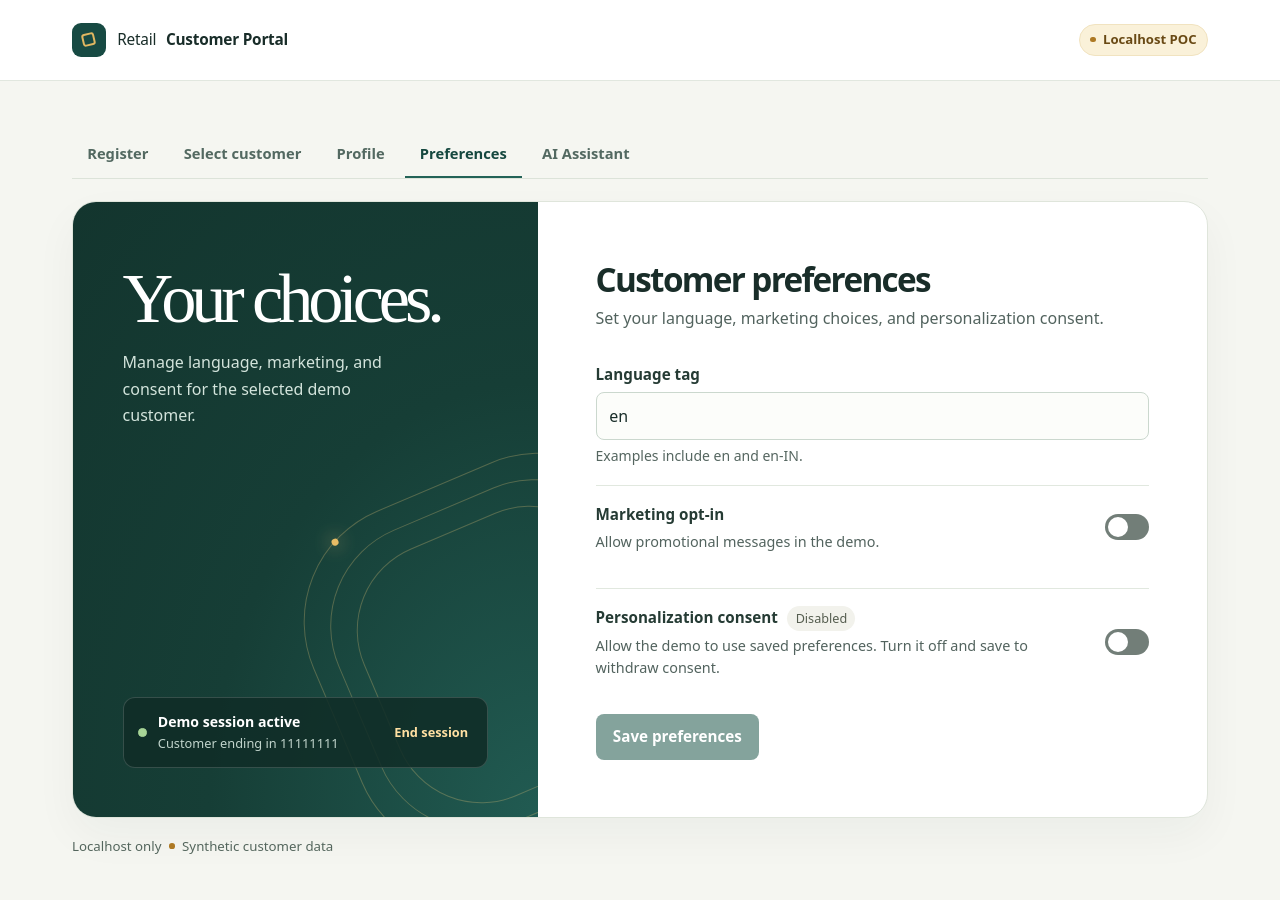
Test: shows default consent off and can explicitly grant and withdraw it
Expected: the switch labelled "Personalization consent" is not checked, [1105,629,1149,655]
Expected: the text with test id "consent-state" reads "Disabled", [796,609,847,627]
Step 1. Type "en-IN" into the field labelled "Language tag" → (872,416), box [596,392,1149,440]
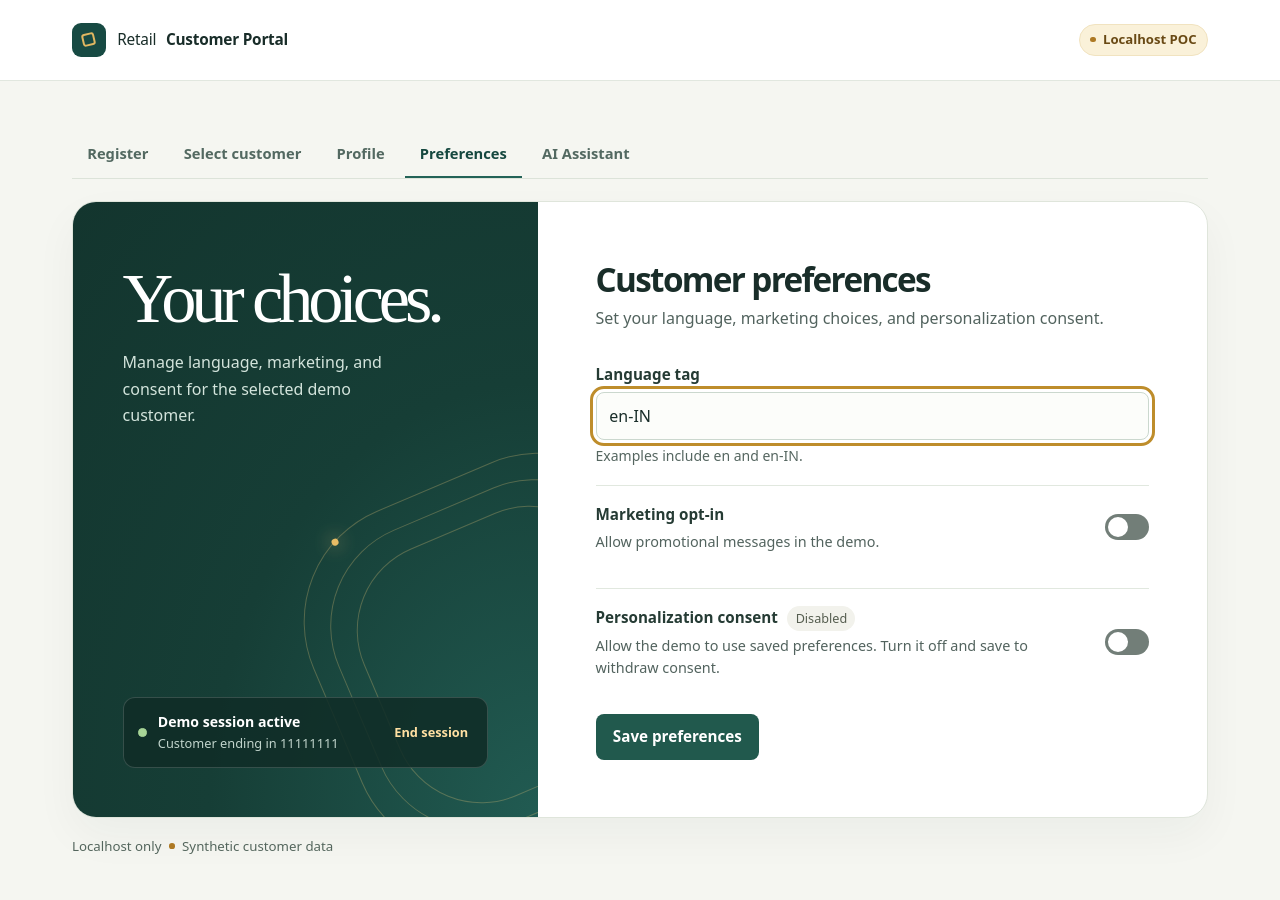
Step 2. Click the switch labelled "Marketing opt-in" → (1127,527), box [1105,514,1149,540]
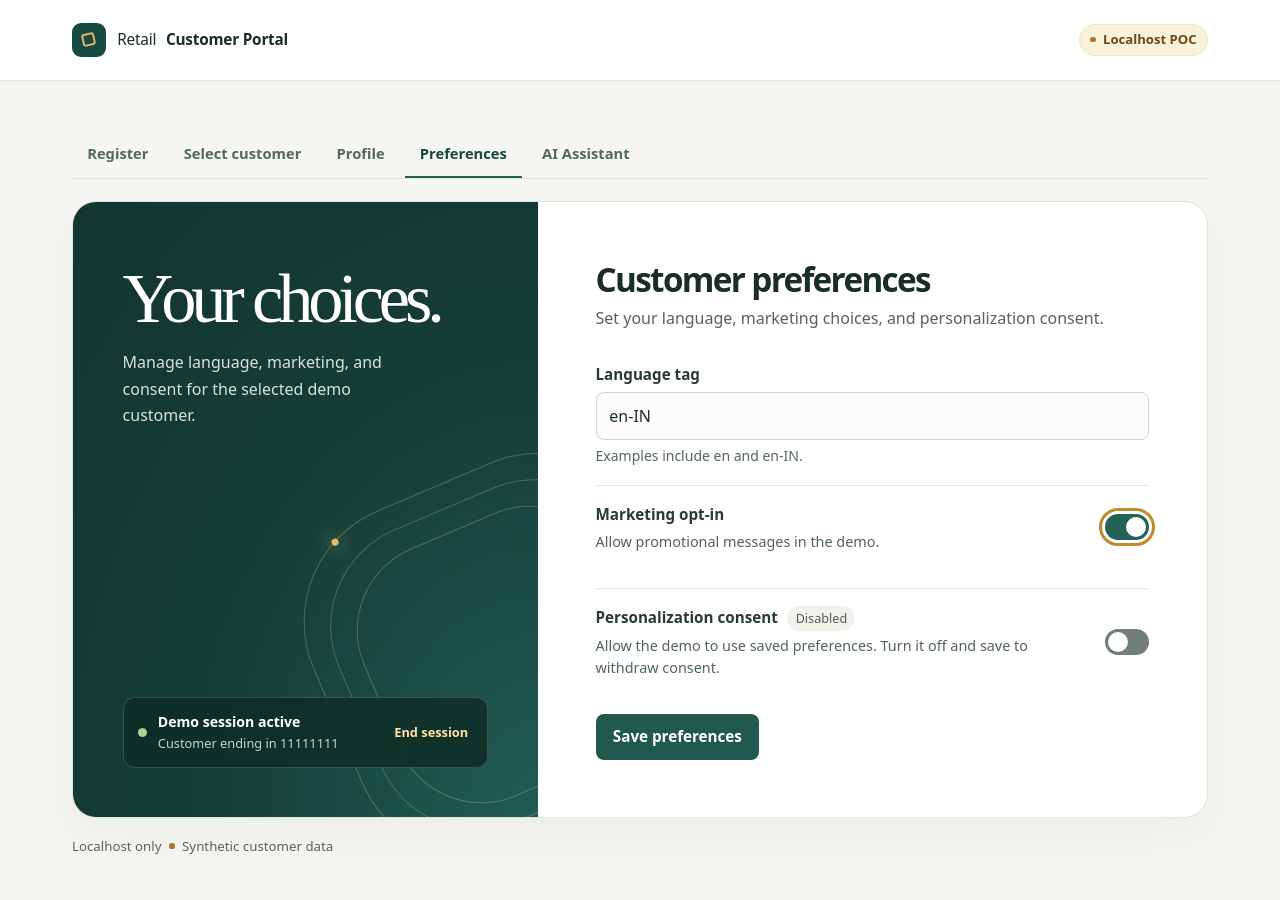
Step 3. Click the switch labelled "Personalization consent" → (1127,642), box [1105,629,1149,655]
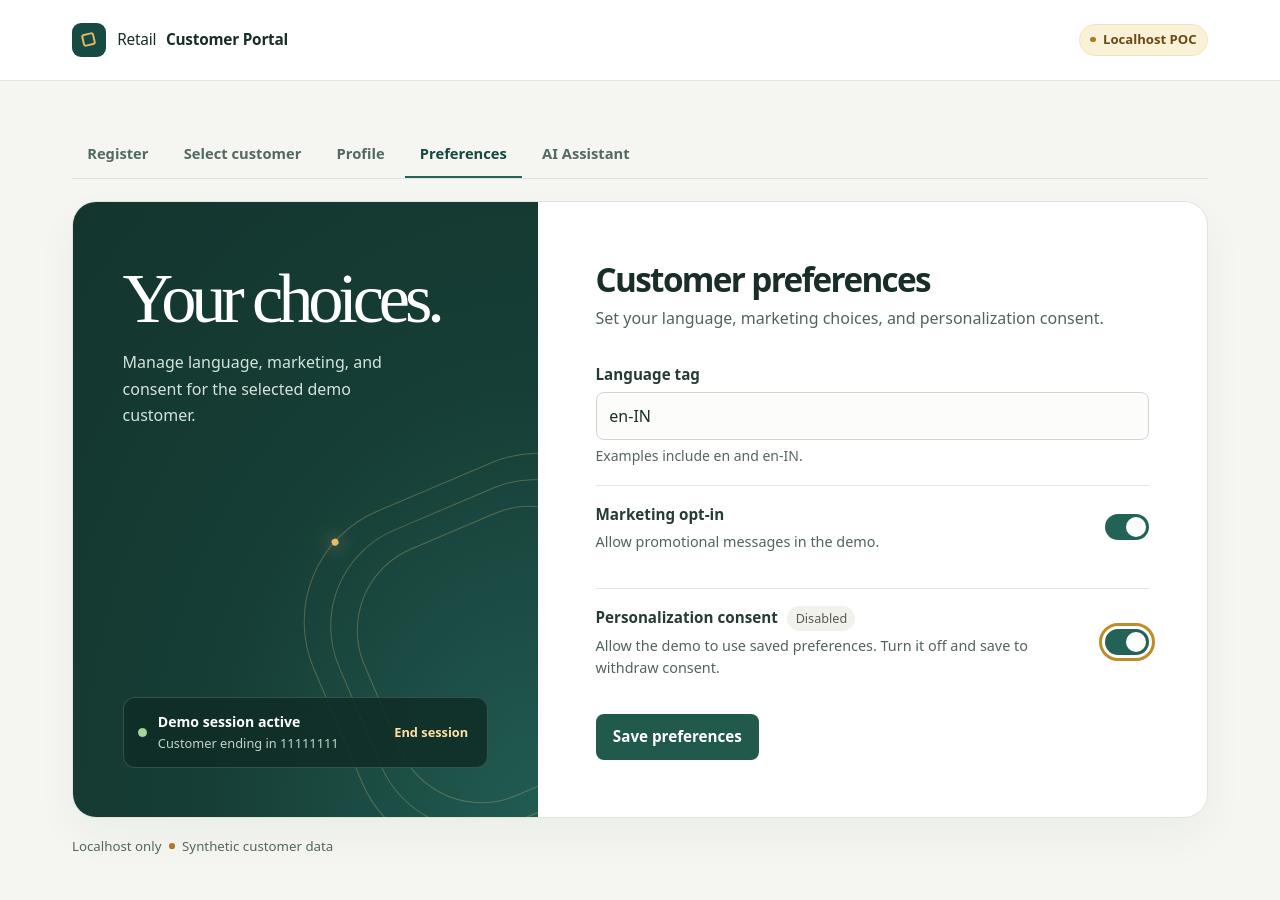
Step 4. Click the button "Save preferences" → (677,737), box [596,714,759,760]
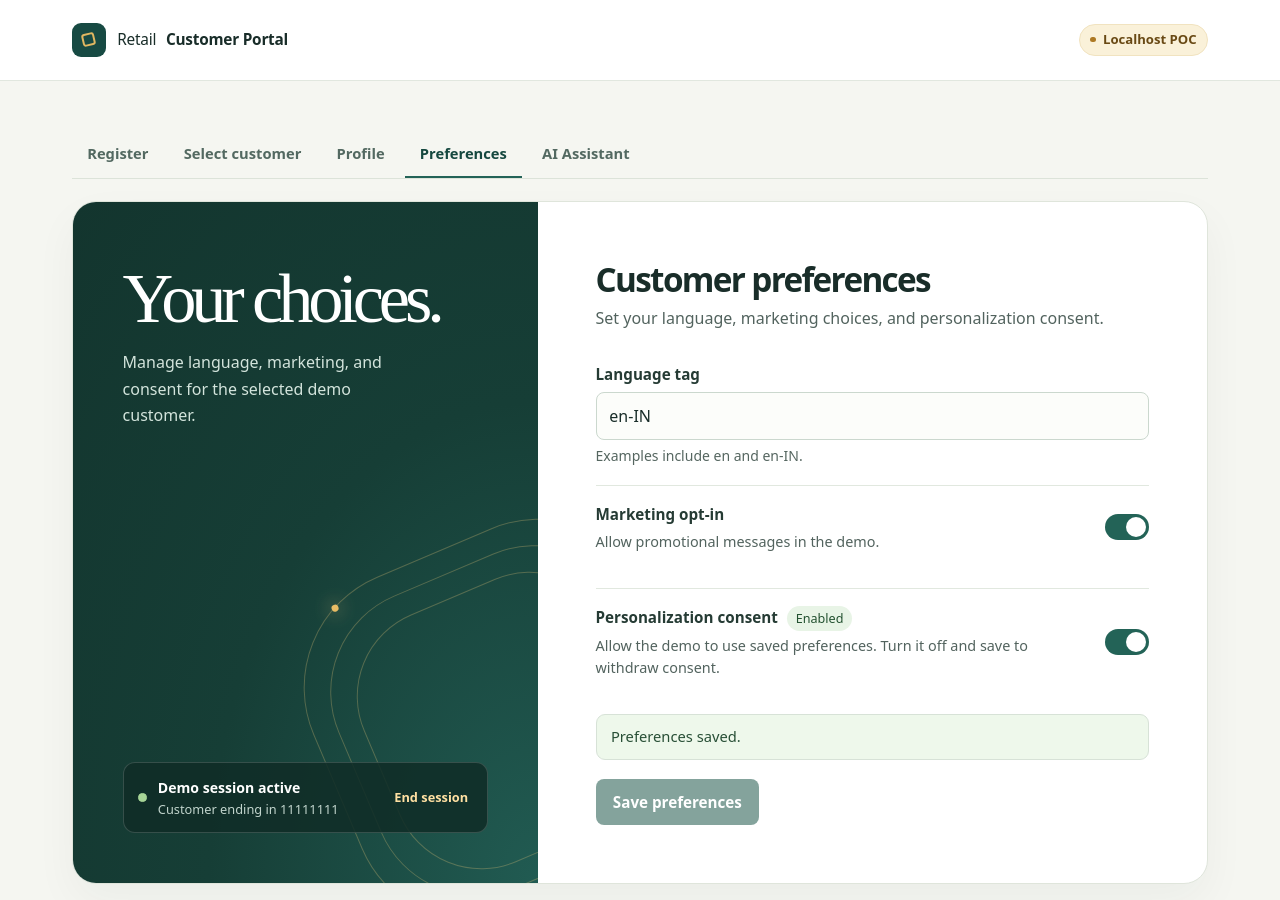
Expected: the text with test id "consent-state" reads "Enabled", [796,609,843,627]
Step 5. Click the switch labelled "Personalization consent" → (1127,642), box [1105,629,1149,655]
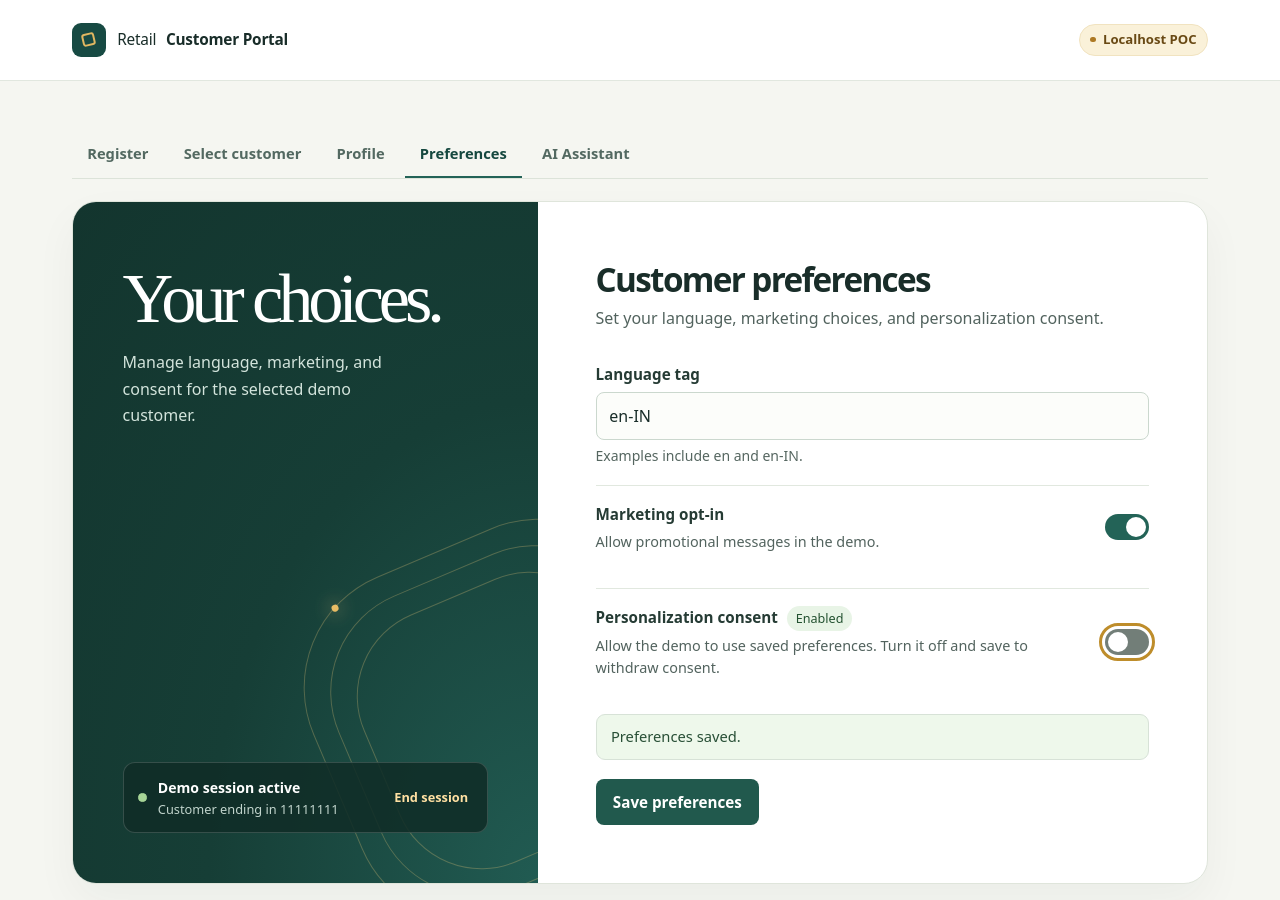
Step 6. Click the button "Save preferences" → (677,802), box [596,779,759,825]
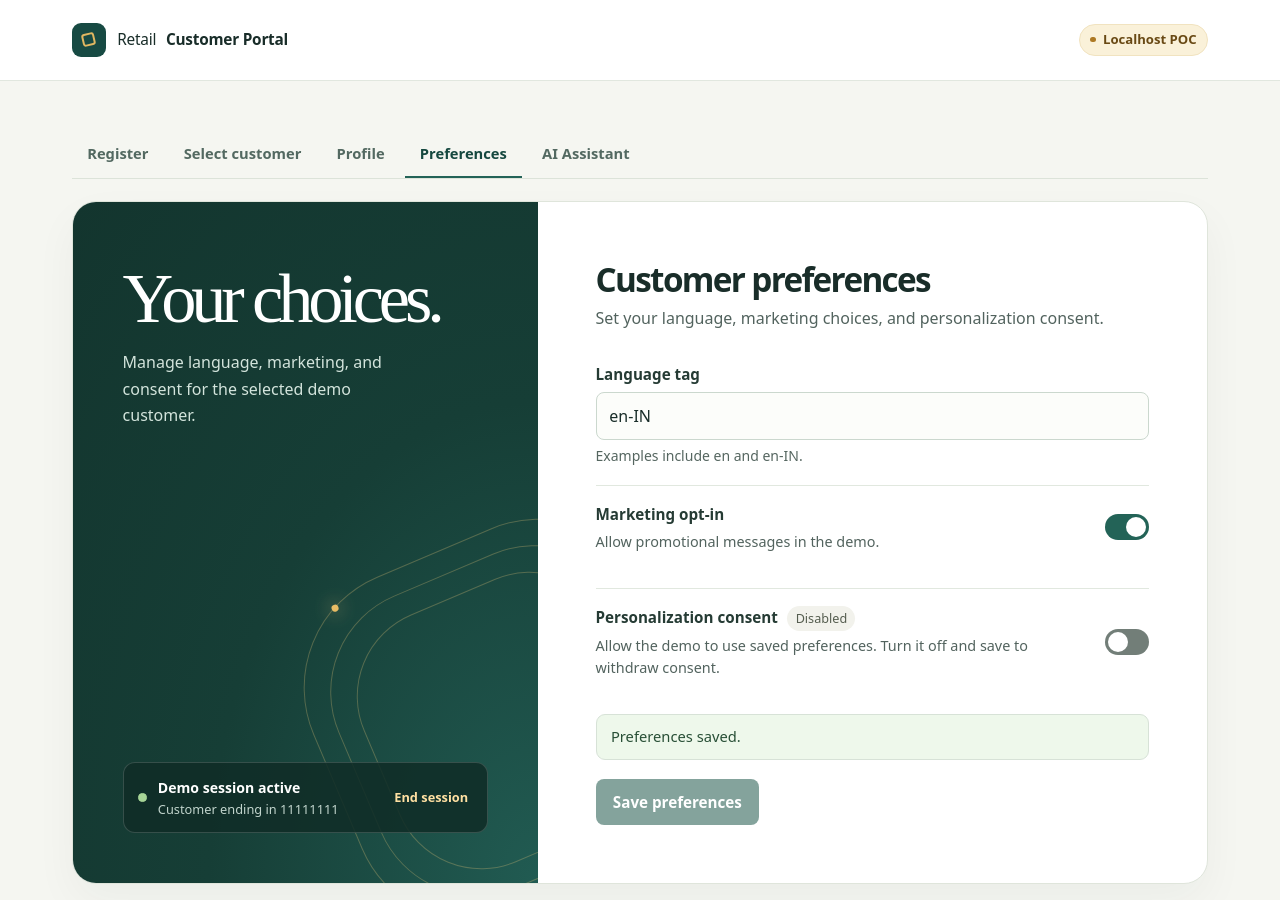
Expected: the text with test id "consent-state" reads "Disabled", [796,609,847,627]
